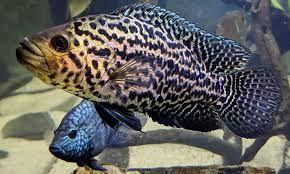Jaguar Gapote: (15, 2, 283, 136)
